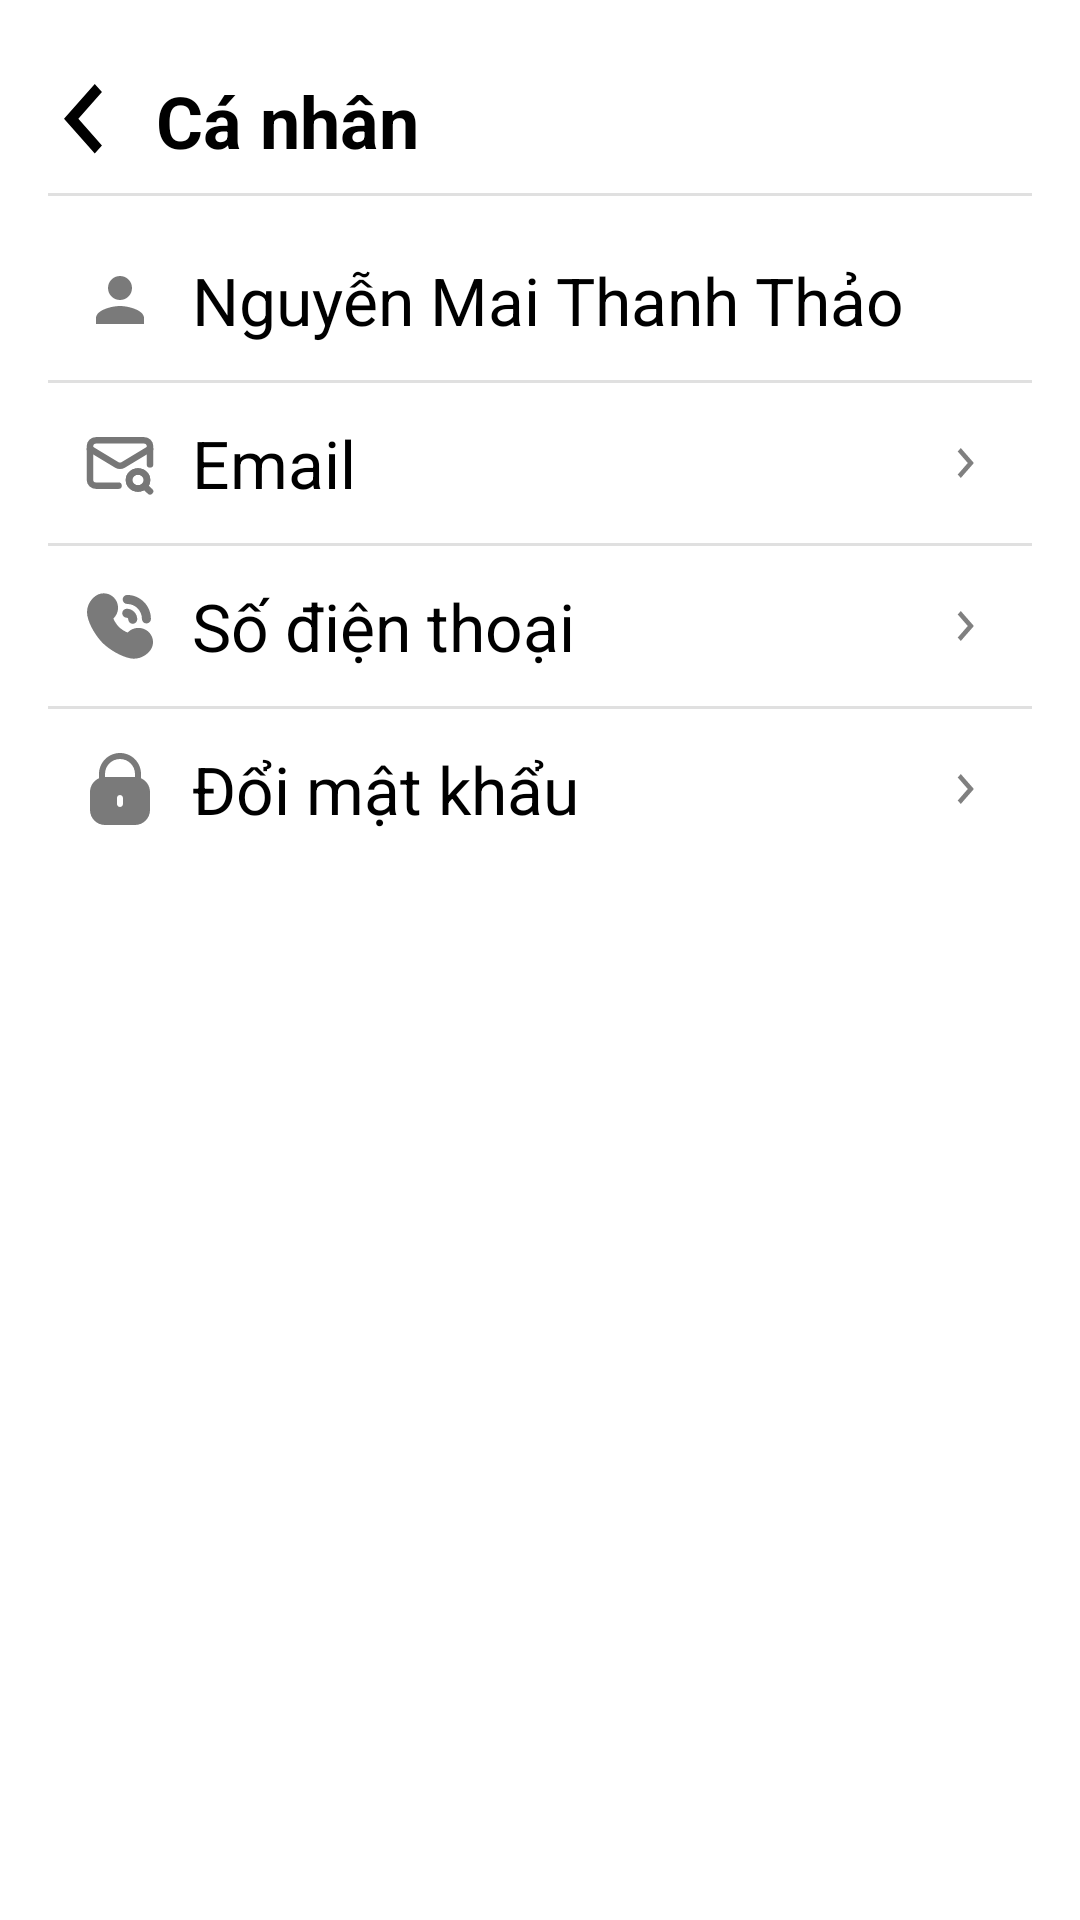

Where to tap for icons on this 1080*1920 app screen, as (x=x, y=y):
arrow back: (x=83, y=119)
arrow right: (x=966, y=463), (x=966, y=626), (x=966, y=789)
lock: (x=120, y=789)
person: (x=120, y=300)
phone: (x=120, y=626)
